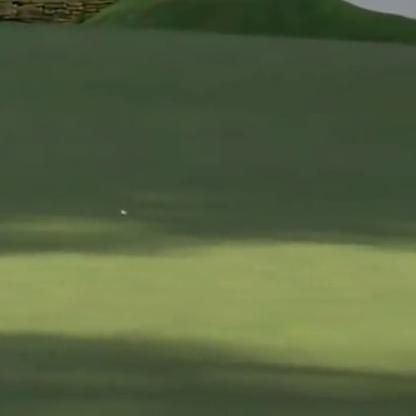golfball: (116, 206, 126, 216)
